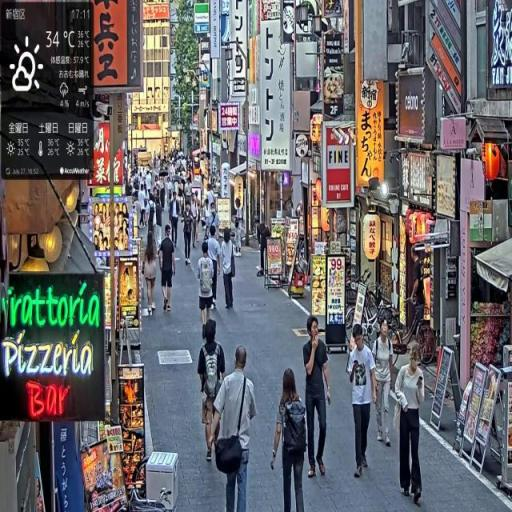person: (210, 342, 260, 512), (271, 367, 309, 512), (395, 343, 427, 507), (348, 324, 380, 480), (303, 318, 333, 482), (199, 317, 228, 465), (373, 321, 397, 451), (197, 240, 216, 340), (219, 227, 238, 316), (160, 227, 177, 315), (144, 238, 161, 316), (208, 226, 223, 308), (183, 201, 196, 269), (235, 199, 247, 260), (170, 191, 182, 250)
